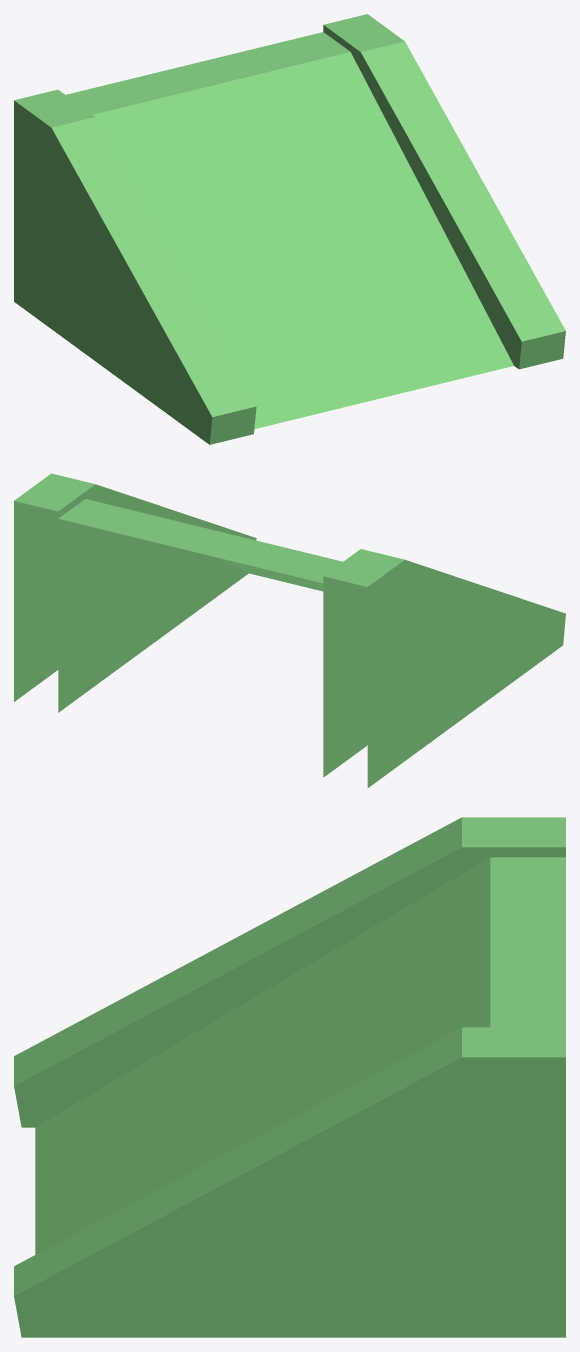
File: Bld3_Base_Staircase_A_COL.fbx
3 views of the same model, one above another, from view 1: azimuth 30°, elevation 25°; view 2: azimuth 150°, elevation 25°; view 3: azimuth 270°, elevation 25° (orthographic). The views are drawn at different scales.
Visible parts, largest first — view 1: Bld3_Base_Staircase_A_COL; view 2: Bld3_Base_Staircase_A_COL; view 3: Bld3_Base_Staircase_A_COL.
Boxes of the visible parts, box(x1,y1,x2,y2) form: Bld3_Base_Staircase_A_COL: box(14, 14, 565, 444); Bld3_Base_Staircase_A_COL: box(14, 473, 565, 787); Bld3_Base_Staircase_A_COL: box(14, 817, 565, 1337).
Size of the model in its own units: 300 by 163 by 292.
